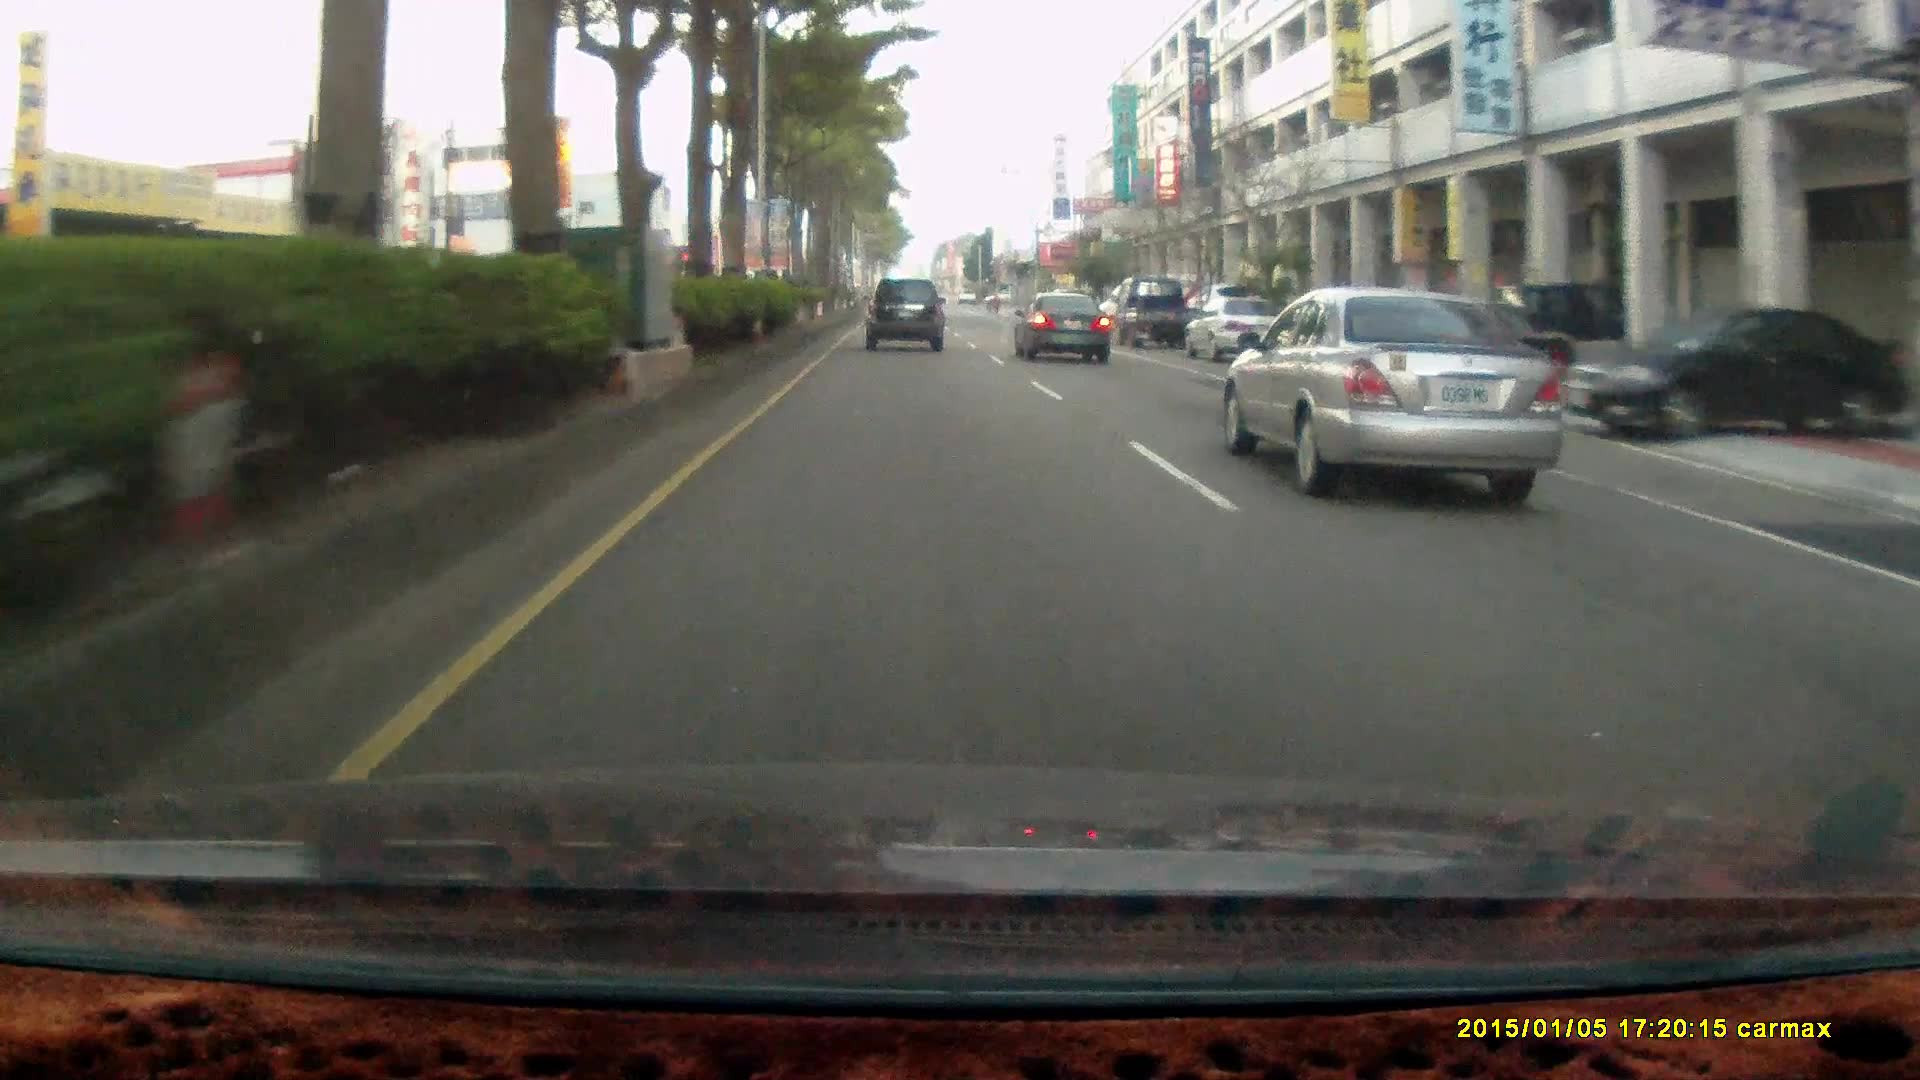vehicle: (1222, 289, 1567, 500), (1578, 305, 1905, 448), (1561, 309, 1911, 442), (1182, 295, 1292, 365), (1189, 298, 1298, 368), (1018, 297, 1118, 368), (1011, 290, 1112, 360), (865, 280, 947, 356), (1112, 278, 1193, 353), (1110, 274, 1193, 348), (862, 278, 945, 349)
